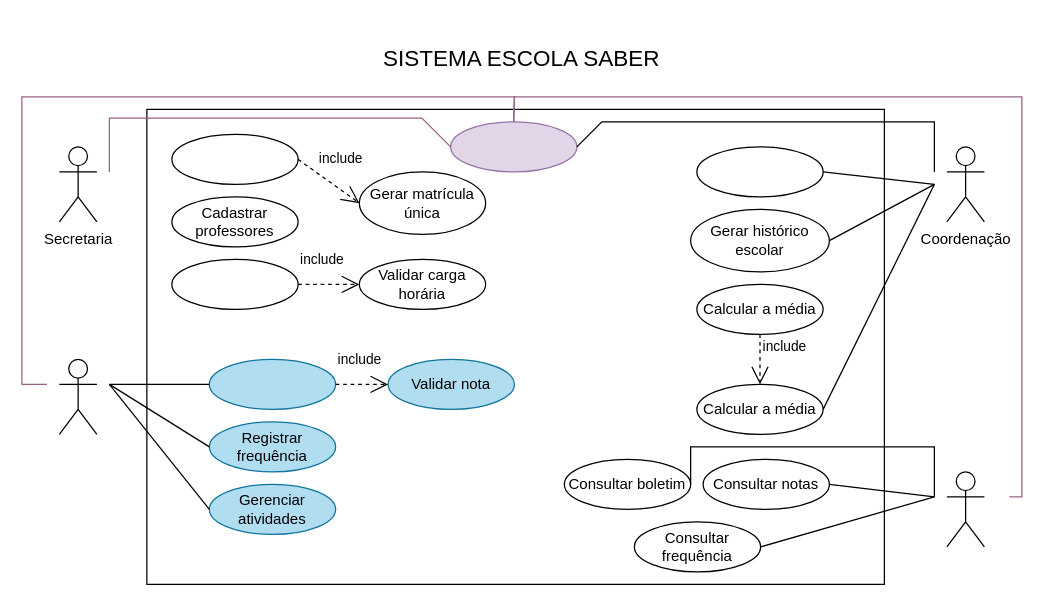
Some shapes in this 1045 by 606 pixel diagram are drawn without their labels. The shapes that lost their labels are listed below. From the top down, each one's box as (x1, y1, x2, y2) in pixels, then its label:
(171, 133, 298, 184): Cadastrar alunos
(449, 121, 577, 172): Efetuar Login
(696, 146, 823, 197): Acompanhar desempenho
(171, 258, 298, 309): Cadastrar disciplinas
(58, 358, 97, 434): Professor
(208, 358, 336, 409): Lançar notas
(946, 471, 984, 547): Responsável
